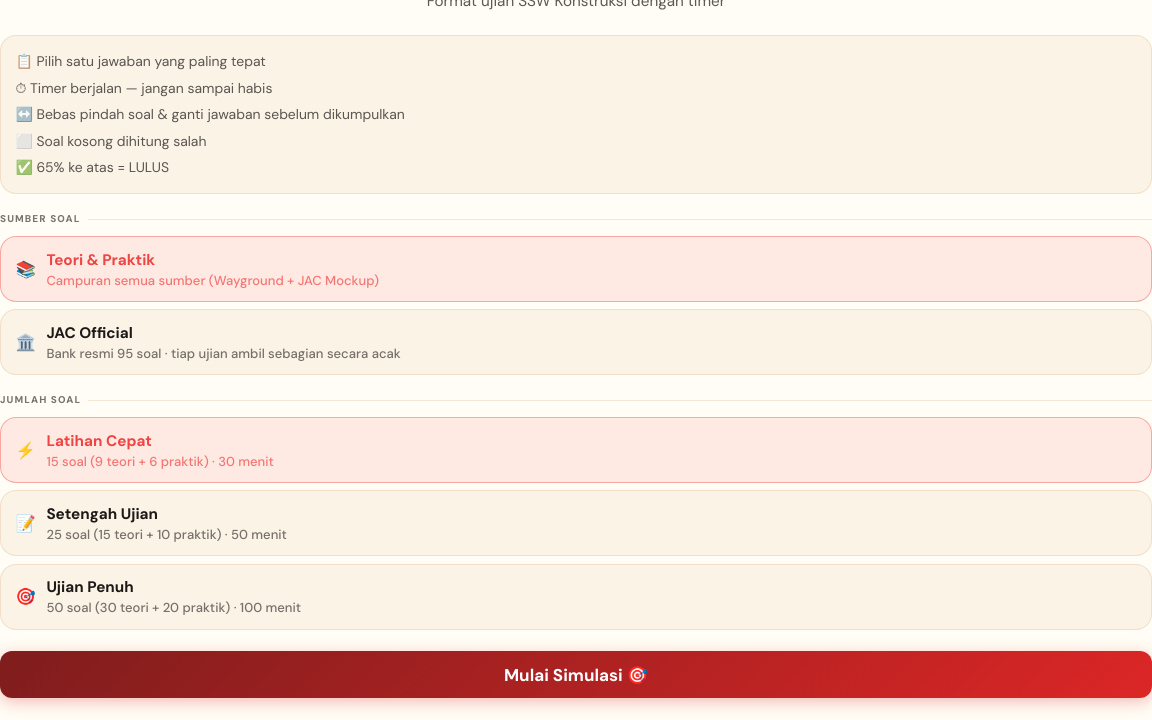
Test: simulasi pause overlay + exit confirm (item 187) › never has two aria-modal dialogs open at once
(page scrolled)
Click the button "Mulai Simulasi 🎯" at {"x": 576, "y": 675}, box top-left (0, 651), bottom-right (1151, 698)
(page scrolled)
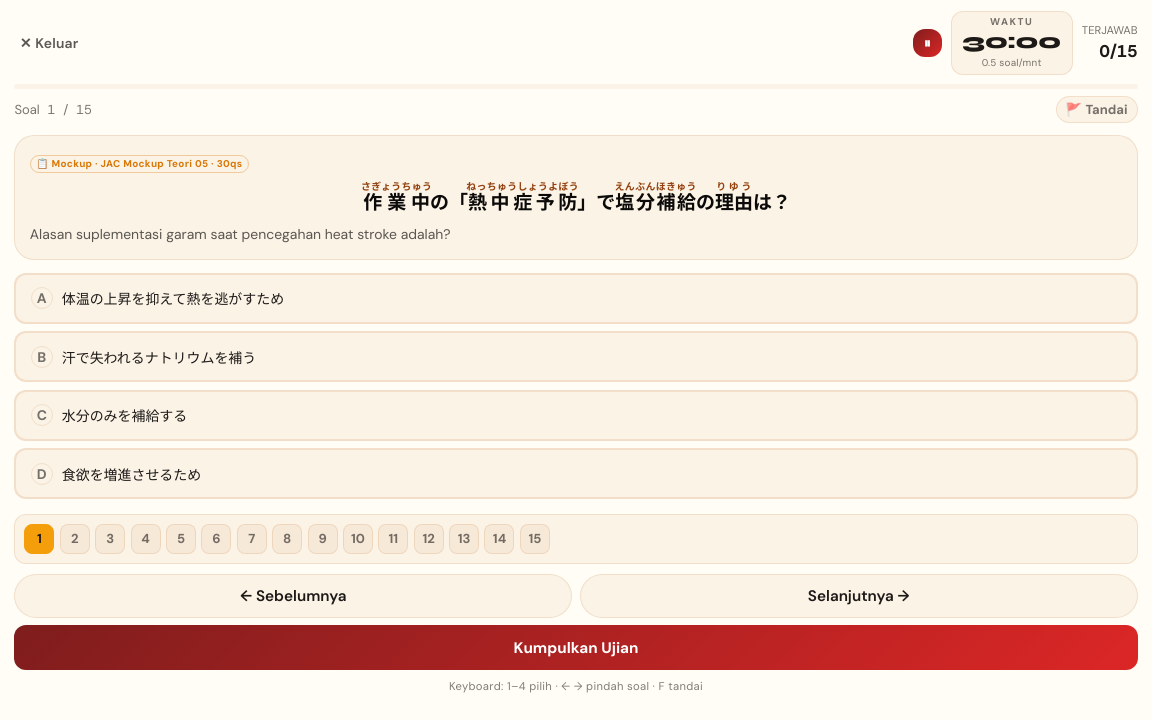
Click the button named "Jeda" at {"x": 927, "y": 43}, box top-left (913, 29), bottom-right (942, 57)
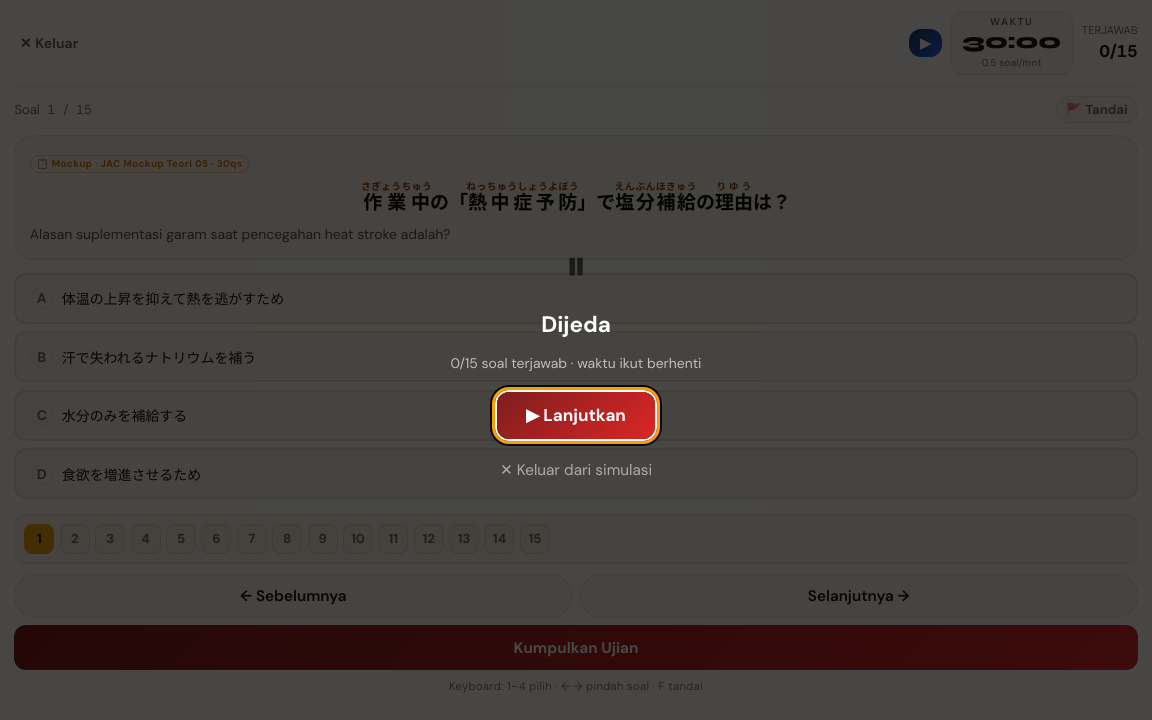
Now the number of dialogs is 1
Click the button "✕ Keluar dari simulasi" at {"x": 576, "y": 470}, box top-left (493, 453), bottom-right (659, 488)
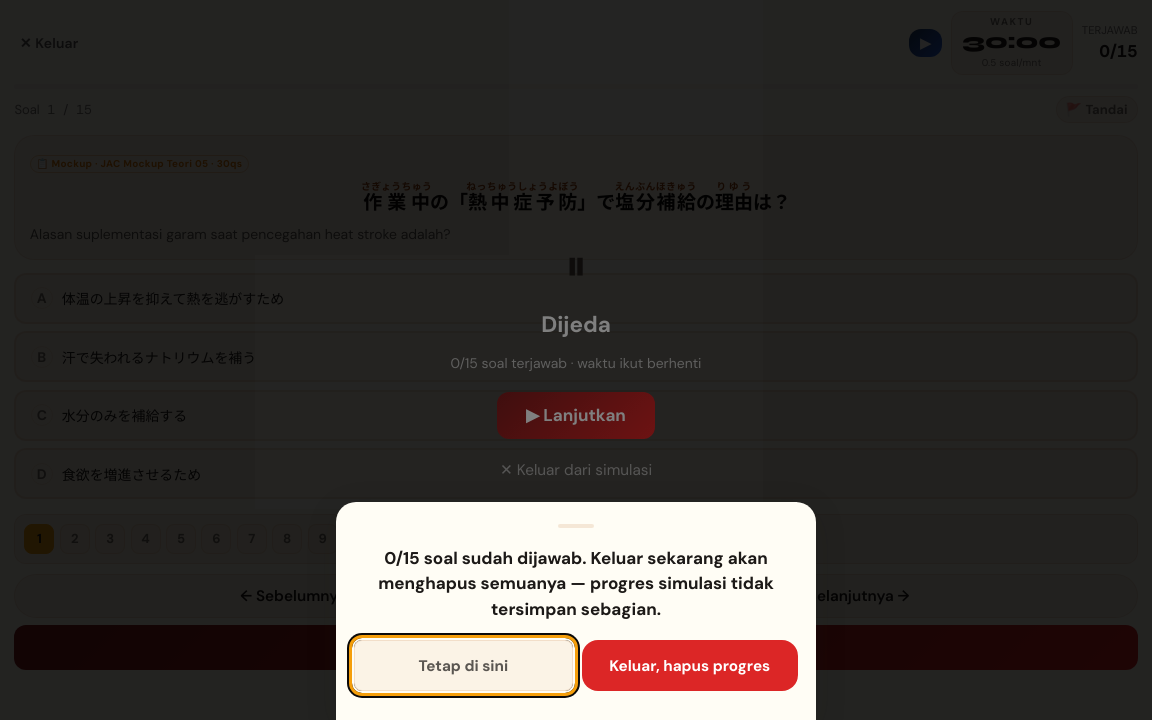
Now the number of dialogs is 1, box top-left (336, 502), bottom-right (816, 719)
